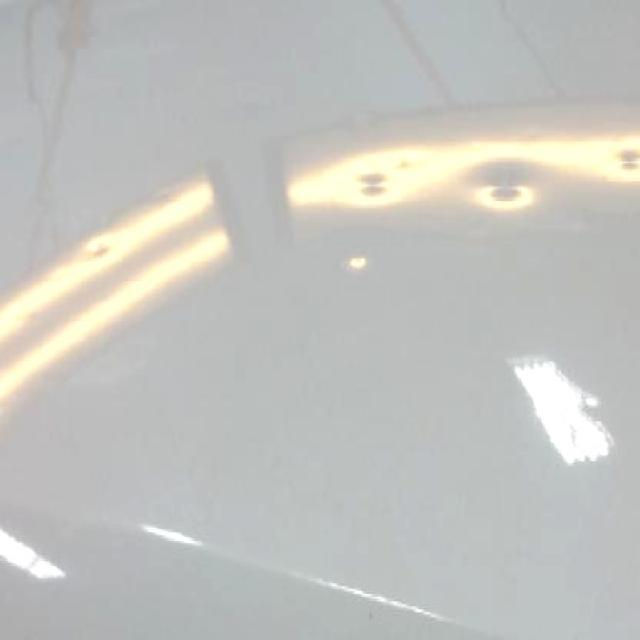dent: (476, 173, 538, 212), (358, 168, 392, 203), (608, 144, 640, 181), (87, 242, 115, 263), (346, 255, 372, 274), (393, 155, 427, 168)
